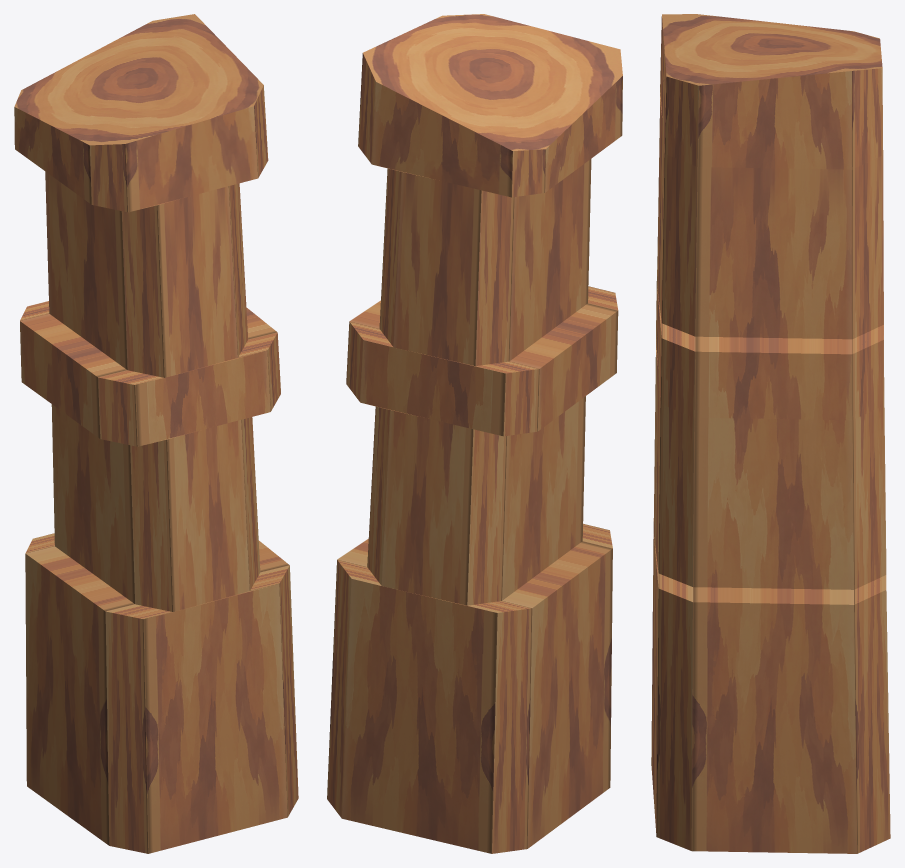
Rendered from fence_w_post_a.glb.
The picture shows the model from 3 angles, left to right: view 1: azimuth 30°, elevation 25°; view 2: azimuth 150°, elevation 25°; view 3: azimuth 270°, elevation 25°; orthographic projection. The views are drawn at different scales.
Parts seen in each view (by area): view 1: fence_w_post_a; view 2: fence_w_post_a; view 3: fence_w_post_a.
Part boxes in pixels (x1,y1,x2,y2): fence_w_post_a: [14, 14, 298, 853]; fence_w_post_a: [327, 14, 622, 853]; fence_w_post_a: [651, 14, 890, 853].
Size of the model in its own units: 0.3591 by 1.19 by 0.3363.
Materials: 1 (1 with a texture image).
